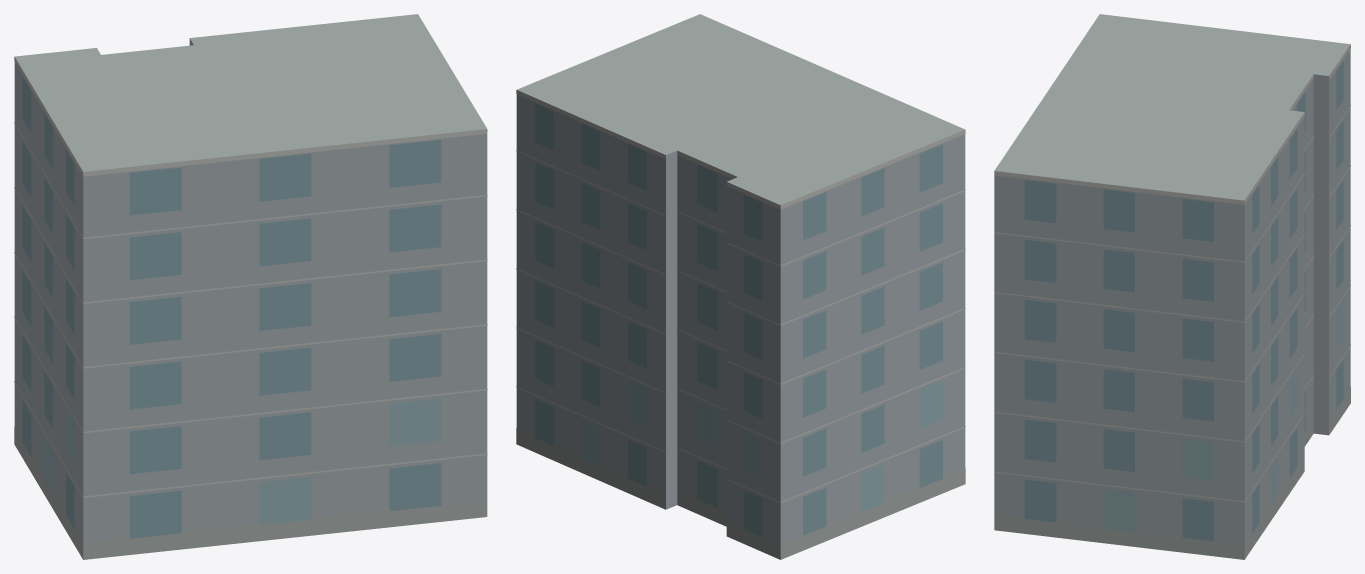
File: survey-upis-32956343.glb
3 renders of one model, left to right at view 1: azimuth 30°, elevation 25°; view 2: azimuth 150°, elevation 25°; view 3: azimuth 270°, elevation 25°, orthographic. The views are drawn at different scales.
Visible parts, largest first — view 1: survey-upis-32956343.tmp; view 2: survey-upis-32956343.tmp; view 3: survey-upis-32956343.tmp.
Boxes of the visible parts, x1,y1,x2,y2 form: survey-upis-32956343.tmp: [14, 14, 487, 559]; survey-upis-32956343.tmp: [516, 14, 965, 559]; survey-upis-32956343.tmp: [994, 14, 1350, 559].
Size of the model in its own units: 22.19 by 19.9 by 17.92.
